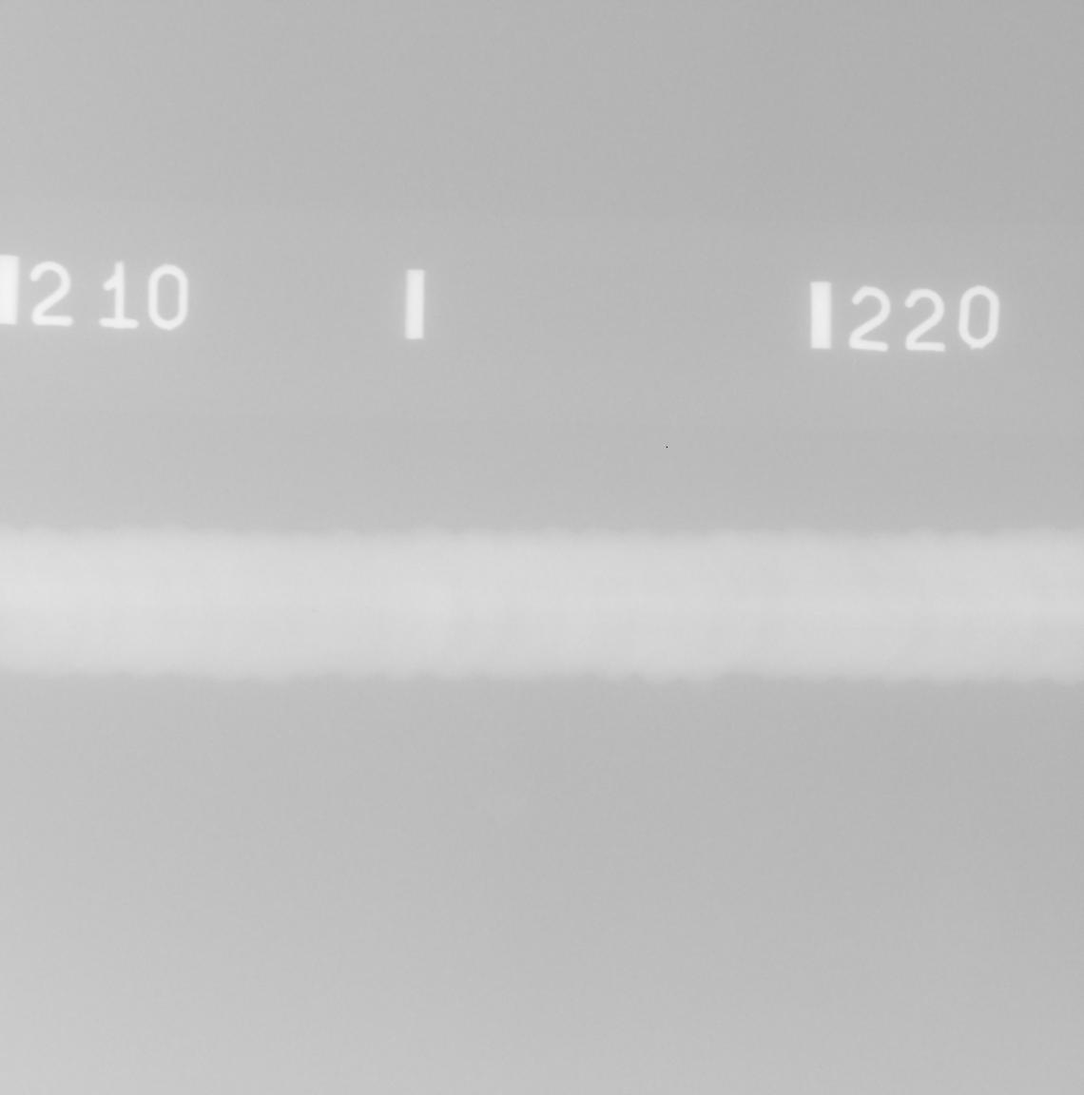Pore/Porosity: (312, 610, 318, 612)
